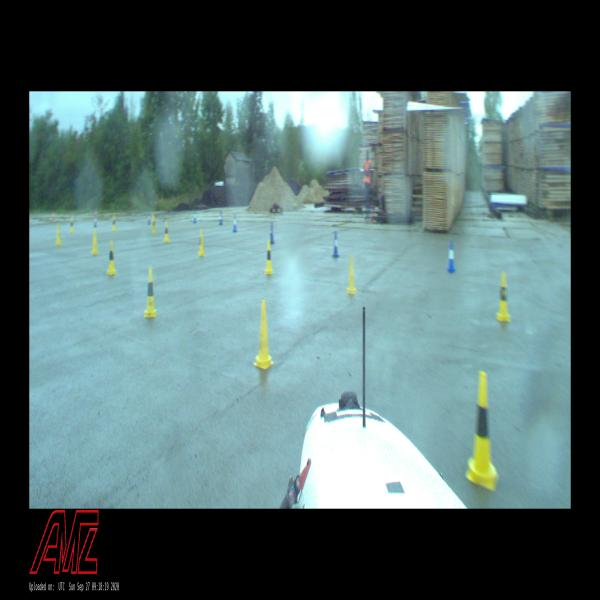blue_cone: (447, 241, 455, 273), (333, 231, 339, 258), (268, 223, 273, 243), (233, 215, 237, 232), (94, 213, 97, 228), (219, 211, 222, 225), (193, 209, 196, 223), (148, 211, 150, 224)
orange_cone: (52, 211, 54, 221)
yellow_cone: (466, 371, 497, 491), (252, 299, 274, 370), (144, 266, 157, 318), (497, 273, 510, 321), (346, 254, 356, 294), (107, 240, 116, 275), (265, 241, 273, 274), (198, 230, 204, 256), (92, 232, 98, 255), (164, 220, 169, 242), (56, 225, 61, 245), (152, 215, 156, 234), (70, 216, 74, 233), (112, 214, 116, 231)
